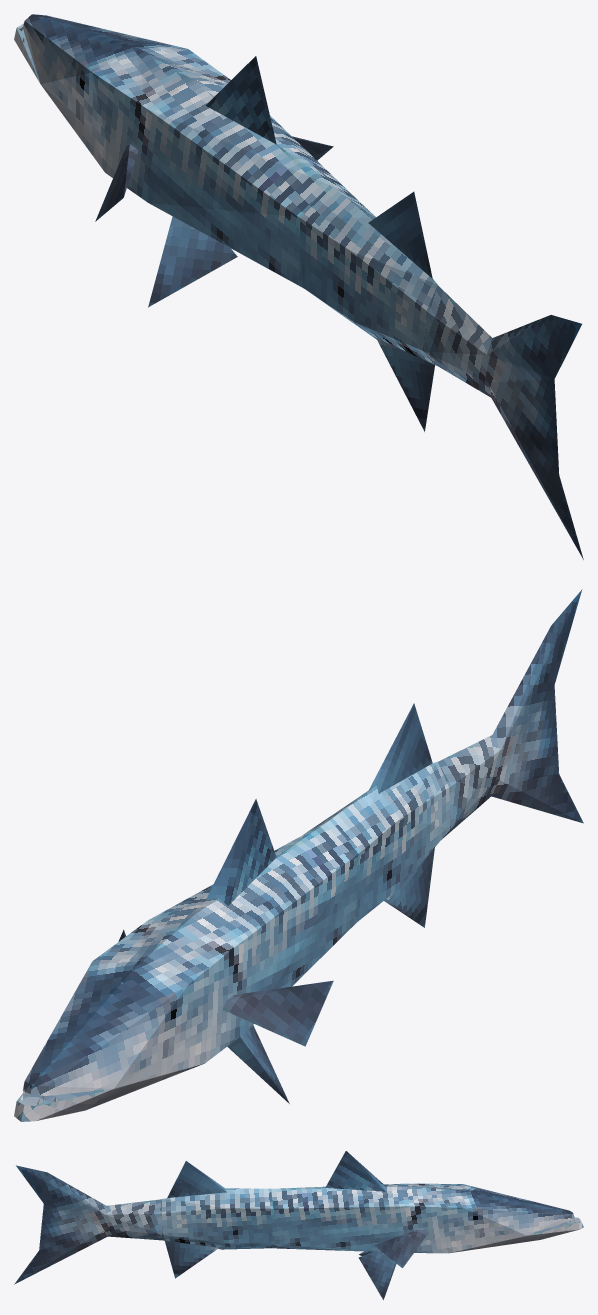
Rendered from Barracuda_Barracuda.glb.
3 views of the same model, one above another, from view 1: azimuth 30°, elevation 25°; view 2: azimuth 150°, elevation 25°; view 3: azimuth 270°, elevation 25° (orthographic). The views are drawn at different scales.
Parts seen in each view (by area): view 1: Body, Tail1, Tail2, Jaw; view 2: Body, Tail1, Tail2, Jaw; view 3: Body, Tail1, Tail2, Jaw.
Part boxes in pixels (box(x1,y1,x2,y2)): Body: box(22, 14, 359, 307); Tail1: box(299, 185, 437, 431); Tail2: box(424, 285, 583, 559); Jaw: box(14, 23, 106, 172); Body: box(22, 799, 360, 1103); Tail1: box(303, 703, 450, 927); Tail2: box(438, 589, 583, 839); Jaw: box(14, 1031, 204, 1121); Body: box(271, 1151, 574, 1299); Tail1: box(162, 1161, 271, 1278); Tail2: box(14, 1165, 162, 1284); Jaw: box(448, 1217, 583, 1253).
Bounding box in the file's own units: 0.2585 × 0.3112 × 1.2.
Materials: 1 (1 with a texture image).
